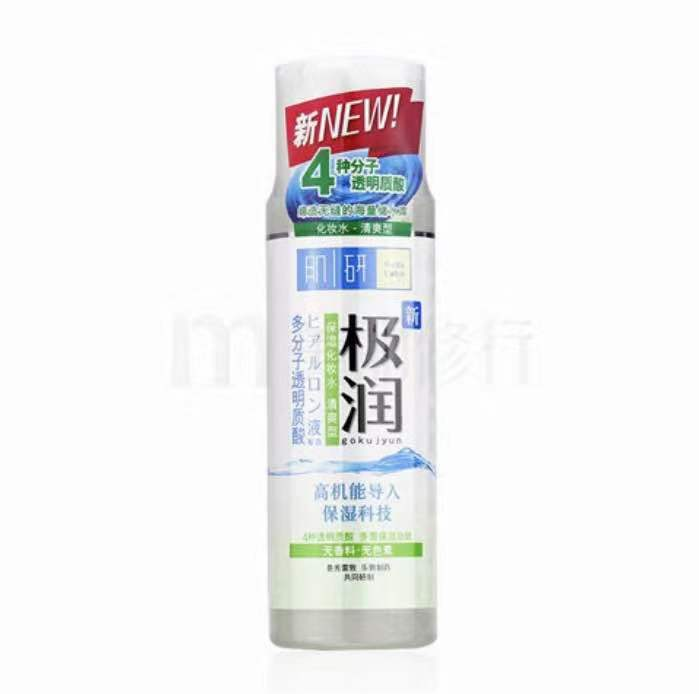cosmetic: (266, 58, 430, 639)
